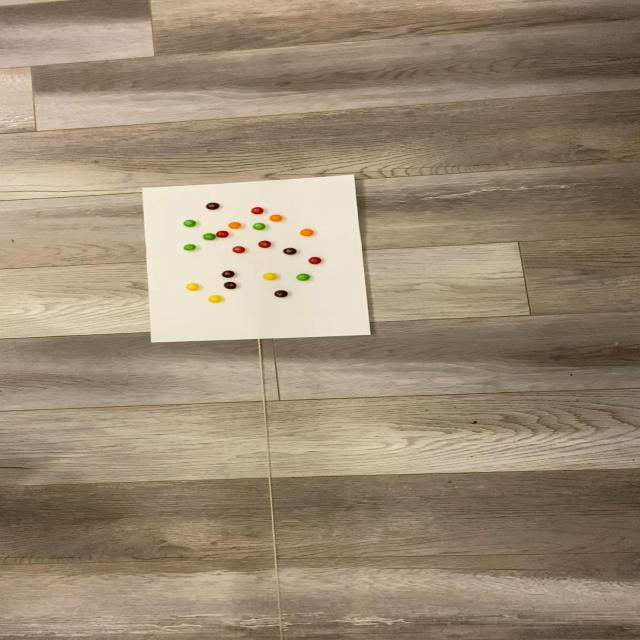smartie: (184, 283, 199, 291), (297, 274, 312, 282), (226, 221, 241, 229), (283, 248, 297, 256), (208, 294, 222, 302), (262, 273, 276, 281), (252, 222, 266, 230), (268, 214, 282, 222), (206, 203, 221, 210), (251, 206, 264, 214), (274, 290, 288, 297), (202, 233, 216, 240), (309, 257, 323, 264), (299, 229, 313, 236), (222, 270, 235, 277), (224, 282, 237, 289), (183, 243, 196, 250), (216, 231, 229, 238), (232, 246, 245, 253), (258, 240, 271, 247), (184, 220, 196, 227)
